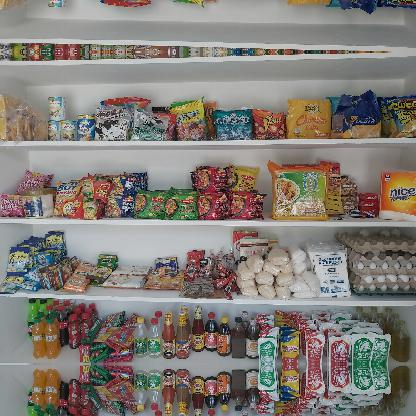Lady-s-Choice: (20, 188, 54, 218)
